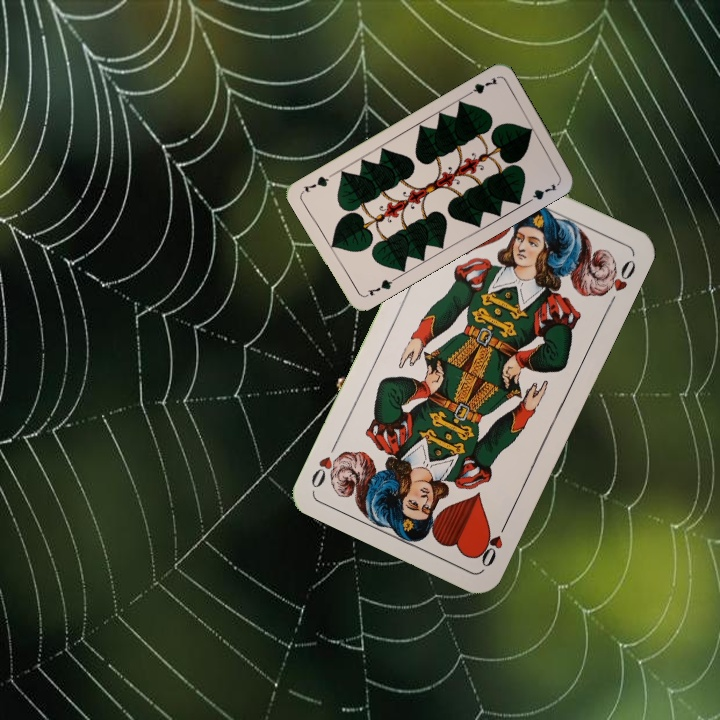G7: (462, 73, 500, 99), (361, 274, 398, 300)
HO: (473, 515, 511, 570)
